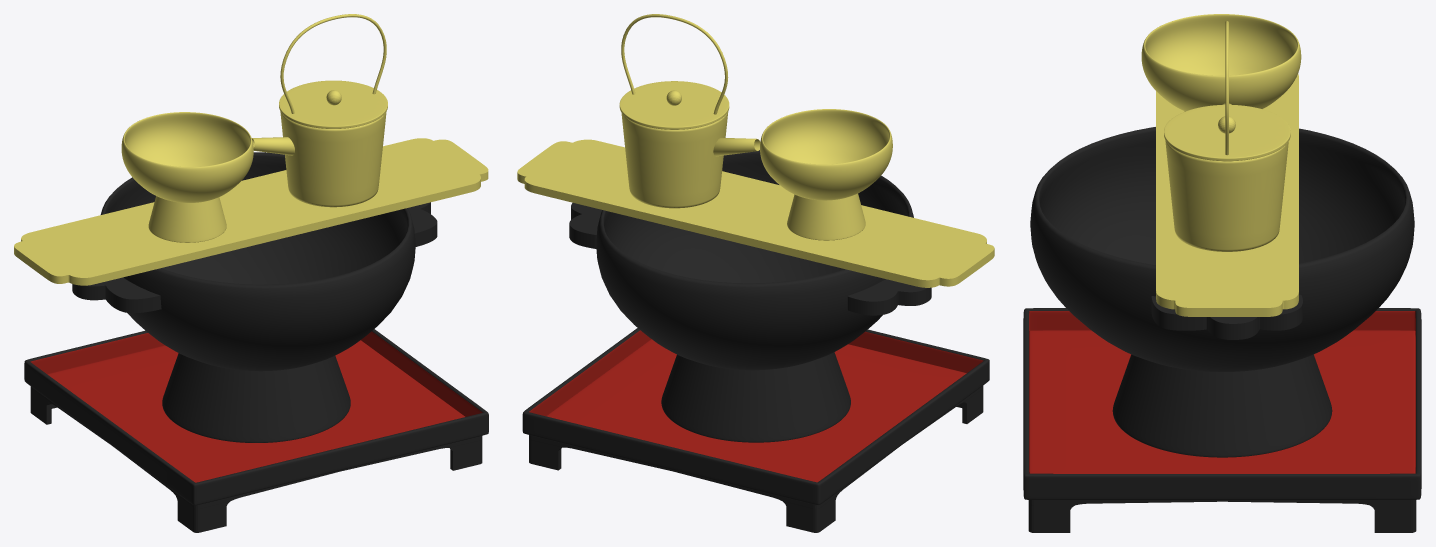
Rendered from artifact.glb.
The picture shows the model from 3 angles, left to right: view 1: azimuth 30°, elevation 25°; view 2: azimuth 150°, elevation 25°; view 3: azimuth 270°, elevation 25°; orthographic projection. The views are drawn at different scales.
Visible parts, largest first — view 1: 平面, 球, ベジエカーブ.002, 円柱, 球.001, 円柱.002, 円柱.004, 立方体.001, 円柱.001, ベジエカーブ, ベジエカーブ.001, 円柱.003; view 2: 平面, 球, ベジエカーブ.002, 円柱, 球.001, 円柱.002, 円柱.004, 立方体.001, ベジエカーブ, 円柱.001, ベジエカーブ.001, 円柱.003; view 3: 球, 平面, 円柱, ベジエカーブ.002, 球.001, 円柱.002, 円柱.004, 立方体.001, ベジエカーブ, ベジエカーブ.001.
Part boxes in pixels (x1,y1,x2,y2): 平面: (24,329,488,505); 球: (100,152,415,371); ベジエカーブ.002: (14,138,488,285); 円柱: (162,353,350,442); 球.001: (121,112,253,202); 円柱.002: (280,111,386,207); 円柱.004: (279,80,387,128); 立方体.001: (30,386,482,532); 円柱.001: (148,196,226,242); ベジエカーブ: (72,202,437,313); ベジエカーブ.001: (280,14,386,113); 円柱.003: (251,137,294,155); 平面: (522,328,989,505); 球: (596,150,913,370); ベジエカーブ.002: (517,139,994,287); 円柱: (661,352,850,442); 球.001: (760,109,892,200); 円柱.002: (621,112,728,208); 円柱.004: (619,81,729,129); 立方体.001: (529,386,983,532); ベジエカーブ: (569,203,931,315); 円柱.001: (787,193,865,240); ベジエカーブ.001: (621,14,728,114); 円柱.003: (713,137,760,156); 球: (1030,127,1414,371); 平面: (1023,308,1421,499); 円柱: (1112,354,1332,457); ベジエカーブ.002: (1156,73,1298,316); 球.001: (1141,14,1301,111); 円柱.002: (1165,140,1288,251); 円柱.004: (1164,104,1290,161); 立方体.001: (1028,500,1416,532); ベジエカーブ: (1151,294,1302,339); ベジエカーブ.001: (1225,21,1228,155).
Size of the model in its own units: 2.95 by 2.58 by 2.
